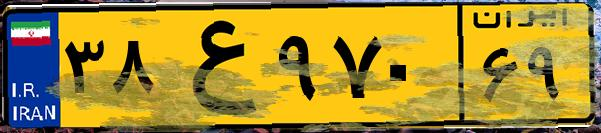0: (385, 28, 445, 110)
3: (57, 26, 110, 100)
6: (475, 38, 525, 113)
7: (330, 28, 385, 110)
8: (110, 28, 158, 98)
9: (270, 28, 330, 110), (525, 38, 570, 115)
ع: (158, 12, 270, 120)
